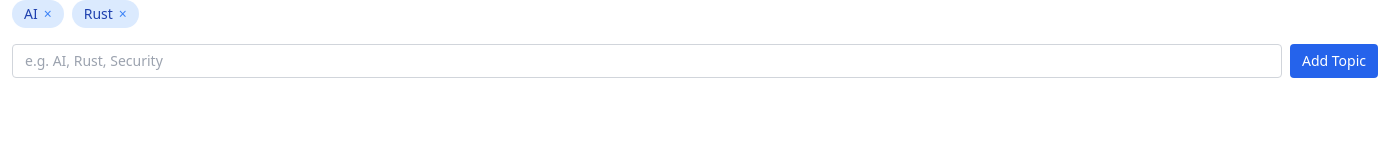
Test: TopicList › shows 409 error on duplicate keyword submission
In the field with placeholder "e.g. AI, Rust, Security": (647, 61) [12,44,1282,78], type "AI"
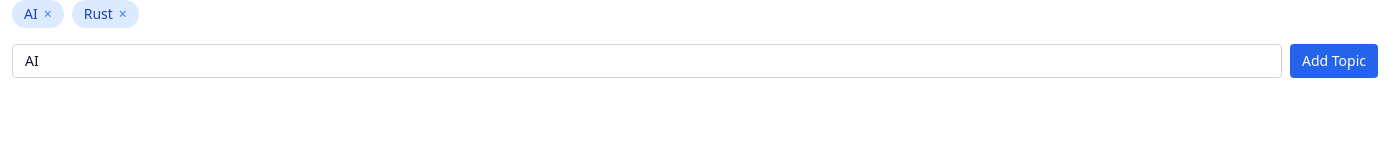
Submit the form with placeholder "e.g. AI", box [12,44,1378,78]
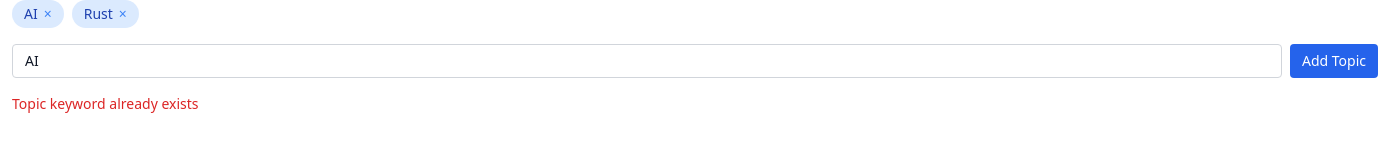
Check: the text "Topic keyword already exists" is shown, box [12,94,198,113]
